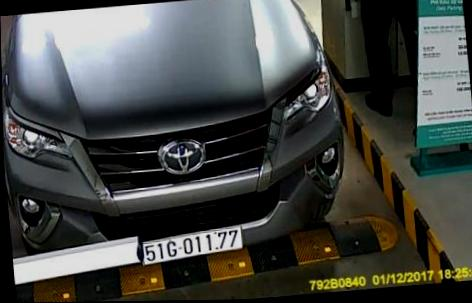License_Plate: (140, 217, 259, 274)
